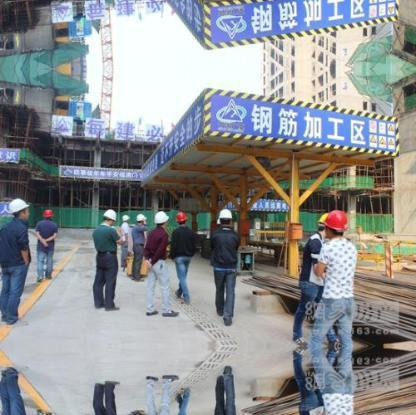helmet: (324, 210, 350, 233), (8, 197, 29, 215), (153, 209, 170, 225), (216, 208, 235, 221), (103, 208, 117, 223), (176, 211, 187, 222), (41, 208, 53, 218), (318, 213, 328, 224), (136, 213, 146, 222), (121, 215, 129, 222)
